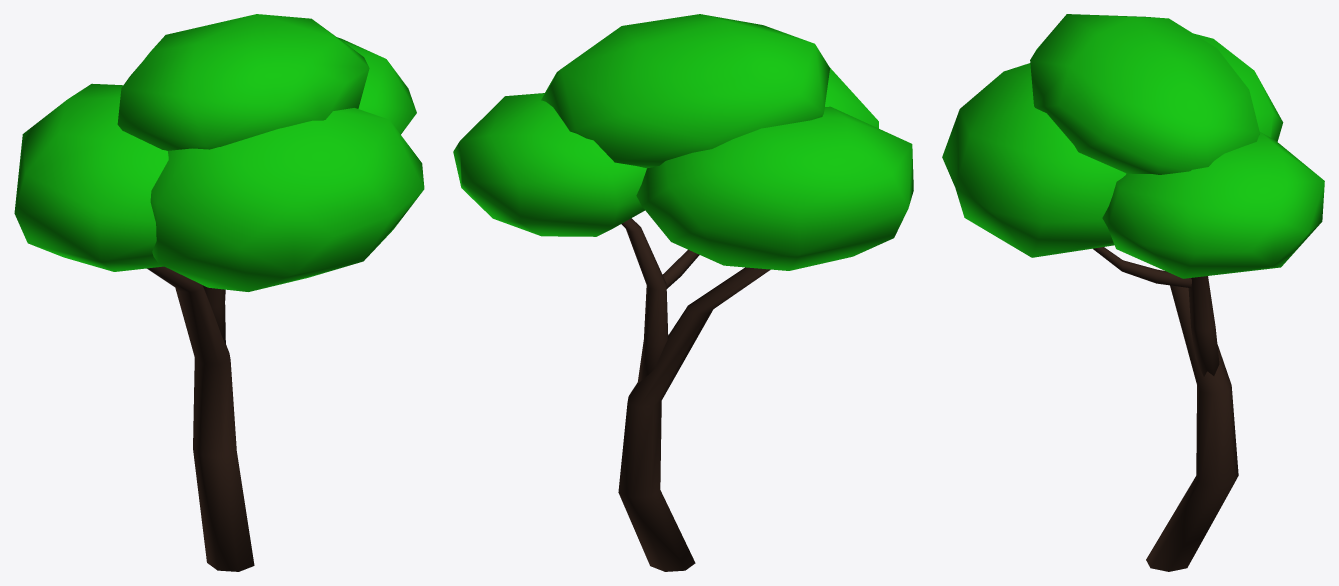
Rendered from Tree_1.FBX.
The picture shows the model from 3 angles, left to right: view 1: azimuth 30°, elevation 25°; view 2: azimuth 150°, elevation 25°; view 3: azimuth 270°, elevation 25°; orthographic projection. The views are drawn at different scales.
Parts seen in each view (by area): view 1: Cylinder006; view 2: Cylinder006; view 3: Cylinder006.
Boxes of the visible parts, x1,y1,x2,y2 form: Cylinder006: (14,14,424,571); Cylinder006: (453,14,913,571); Cylinder006: (942,14,1324,571).
Size of the model in its own units: 119 by 146 by 97.58.
